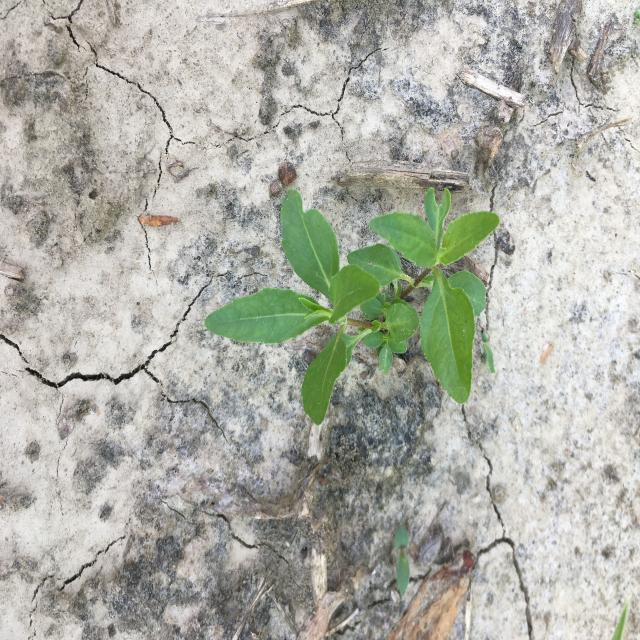Eclipta: (204, 188, 501, 426)
